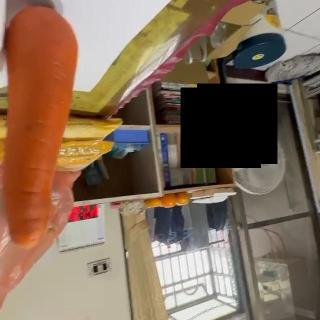carrot: (2, 4, 80, 250)
